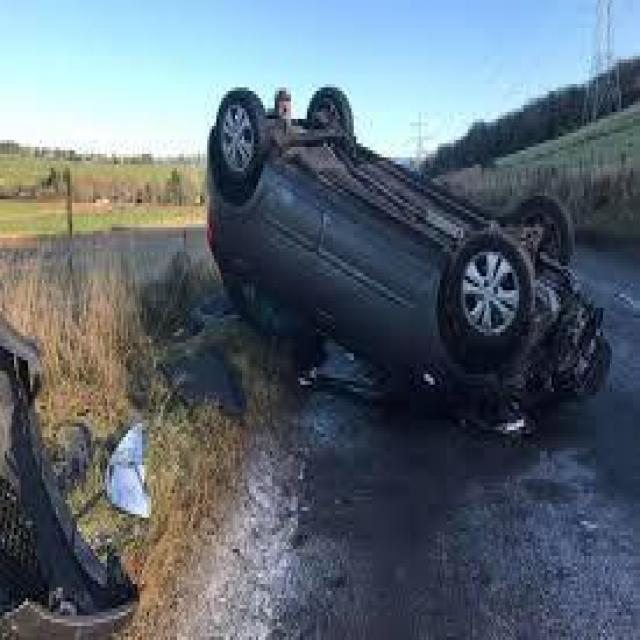severe: (202, 72, 614, 439)
